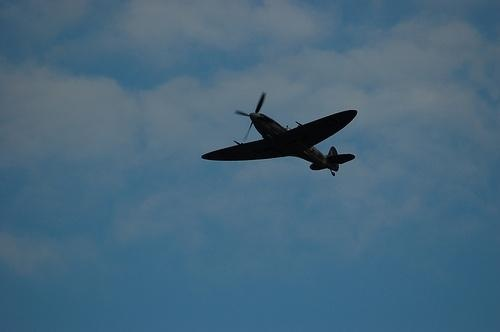aeroplane: (200, 93, 359, 182)
